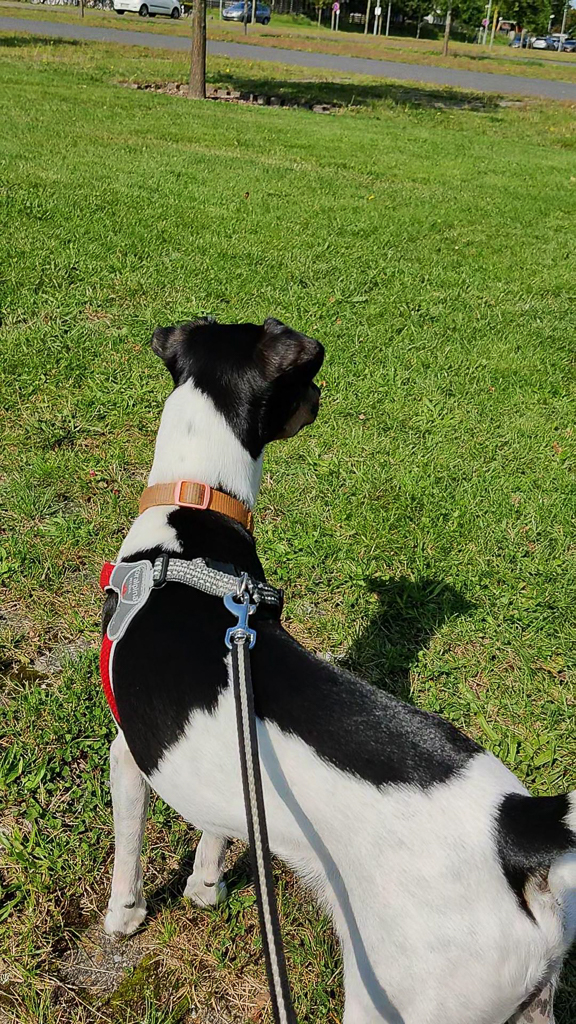Dog: (77, 284, 576, 1024)
